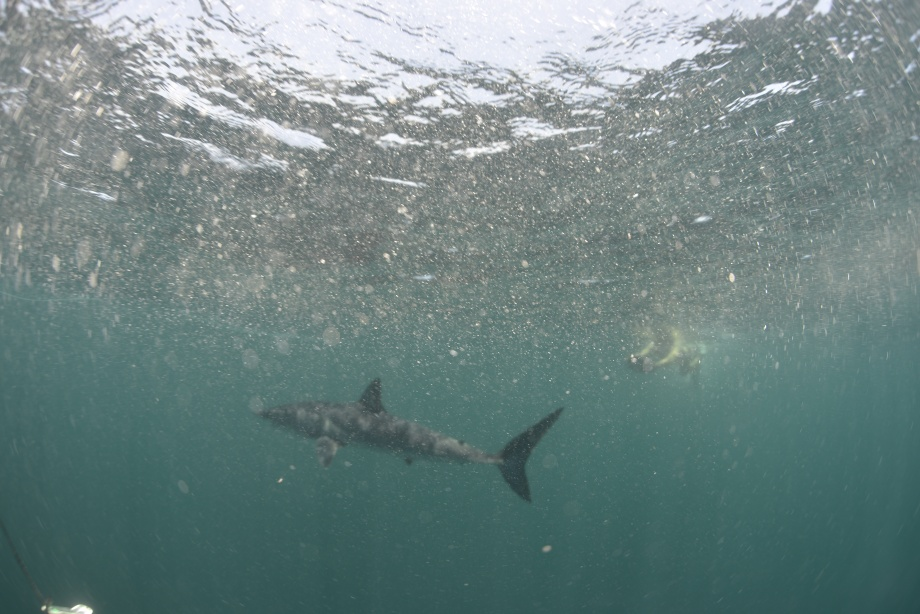Mako: (241, 370, 579, 518)
